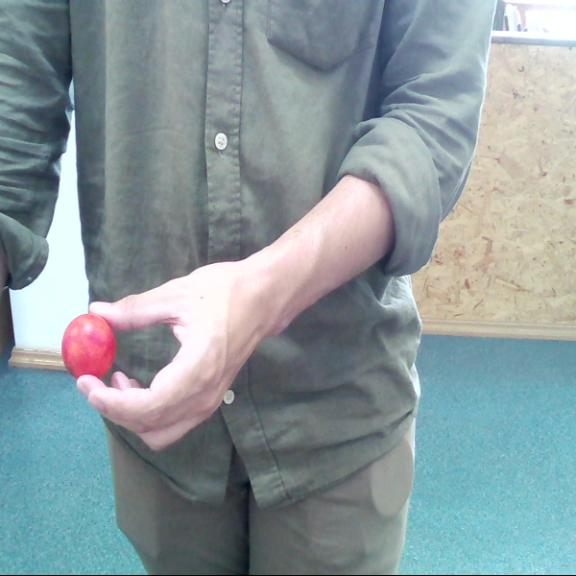ball: (60, 312, 114, 382)
